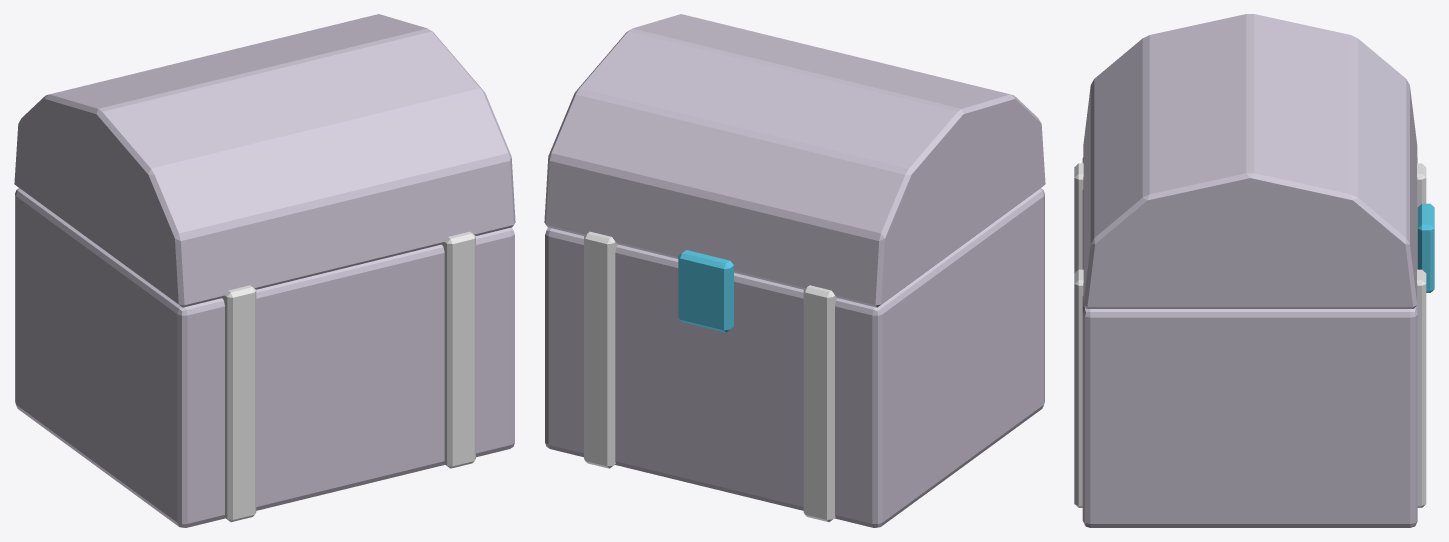
File: hallowed_chest_v0.glb
The picture shows the model from 3 angles, left to right: view 1: azimuth 30°, elevation 25°; view 2: azimuth 150°, elevation 25°; view 3: azimuth 270°, elevation 25°; orthographic projection.
Parts seen in each view (by area): view 1: hallowed_chest_v0, lid; view 2: hallowed_chest_v0, lid; view 3: lid, hallowed_chest_v0.
Part boxes in pixels (<box>): hallowed_chest_v0: <box>15,188,514,527</box>; lid: <box>14,14,515,307</box>; hallowed_chest_v0: <box>545,188,1044,527</box>; lid: <box>544,14,1045,307</box>; lid: <box>1083,14,1417,308</box>; hallowed_chest_v0: <box>1074,157,1434,527</box>.
Bounding box in the file's own units: 0.92 × 0.9377 × 0.86.
